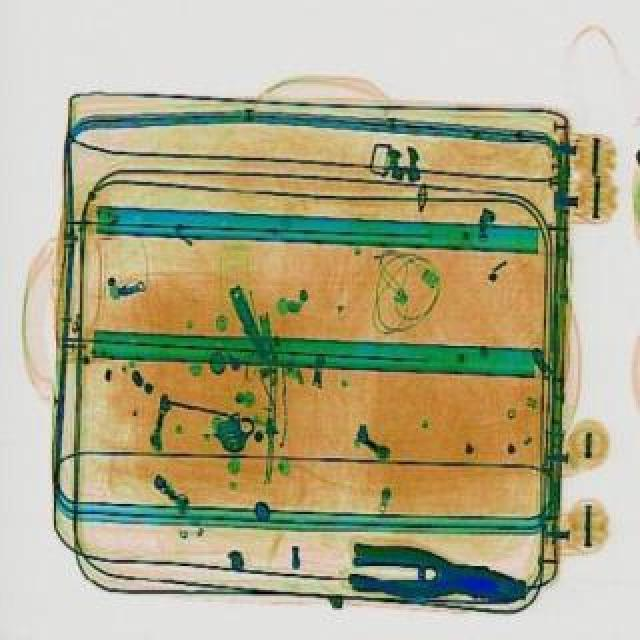wrench: (348, 544, 530, 620)
